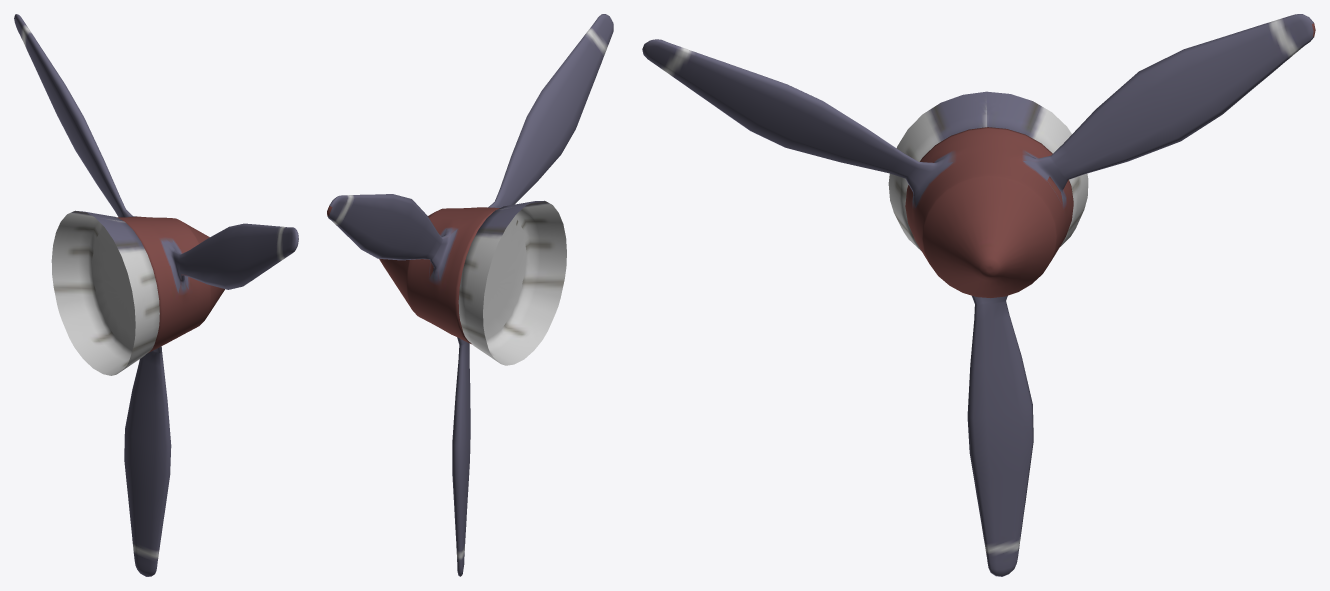
Rendered from elice.obj.
3 renders of one model, left to right at view 1: azimuth 30°, elevation 25°; view 2: azimuth 150°, elevation 25°; view 3: azimuth 270°, elevation 25°, orthographic. The views are drawn at different scales.
Parts seen in each view (by area): view 1: 14082_WWII_Plane_Japan_Kawasaki_Ki-61_v1_L2.001; view 2: 14082_WWII_Plane_Japan_Kawasaki_Ki-61_v1_L2.001; view 3: 14082_WWII_Plane_Japan_Kawasaki_Ki-61_v1_L2.001.
Part boxes in pixels (x1,y1,x2,y2): 14082_WWII_Plane_Japan_Kawasaki_Ki-61_v1_L2.001: (14,14,298,576); 14082_WWII_Plane_Japan_Kawasaki_Ki-61_v1_L2.001: (327,14,613,576); 14082_WWII_Plane_Japan_Kawasaki_Ki-61_v1_L2.001: (642,14,1315,576).
Bounding box in the file's own units: 0.2827 × 0.8784 × 0.9552.
Materials: 1 (1 with a texture image).
